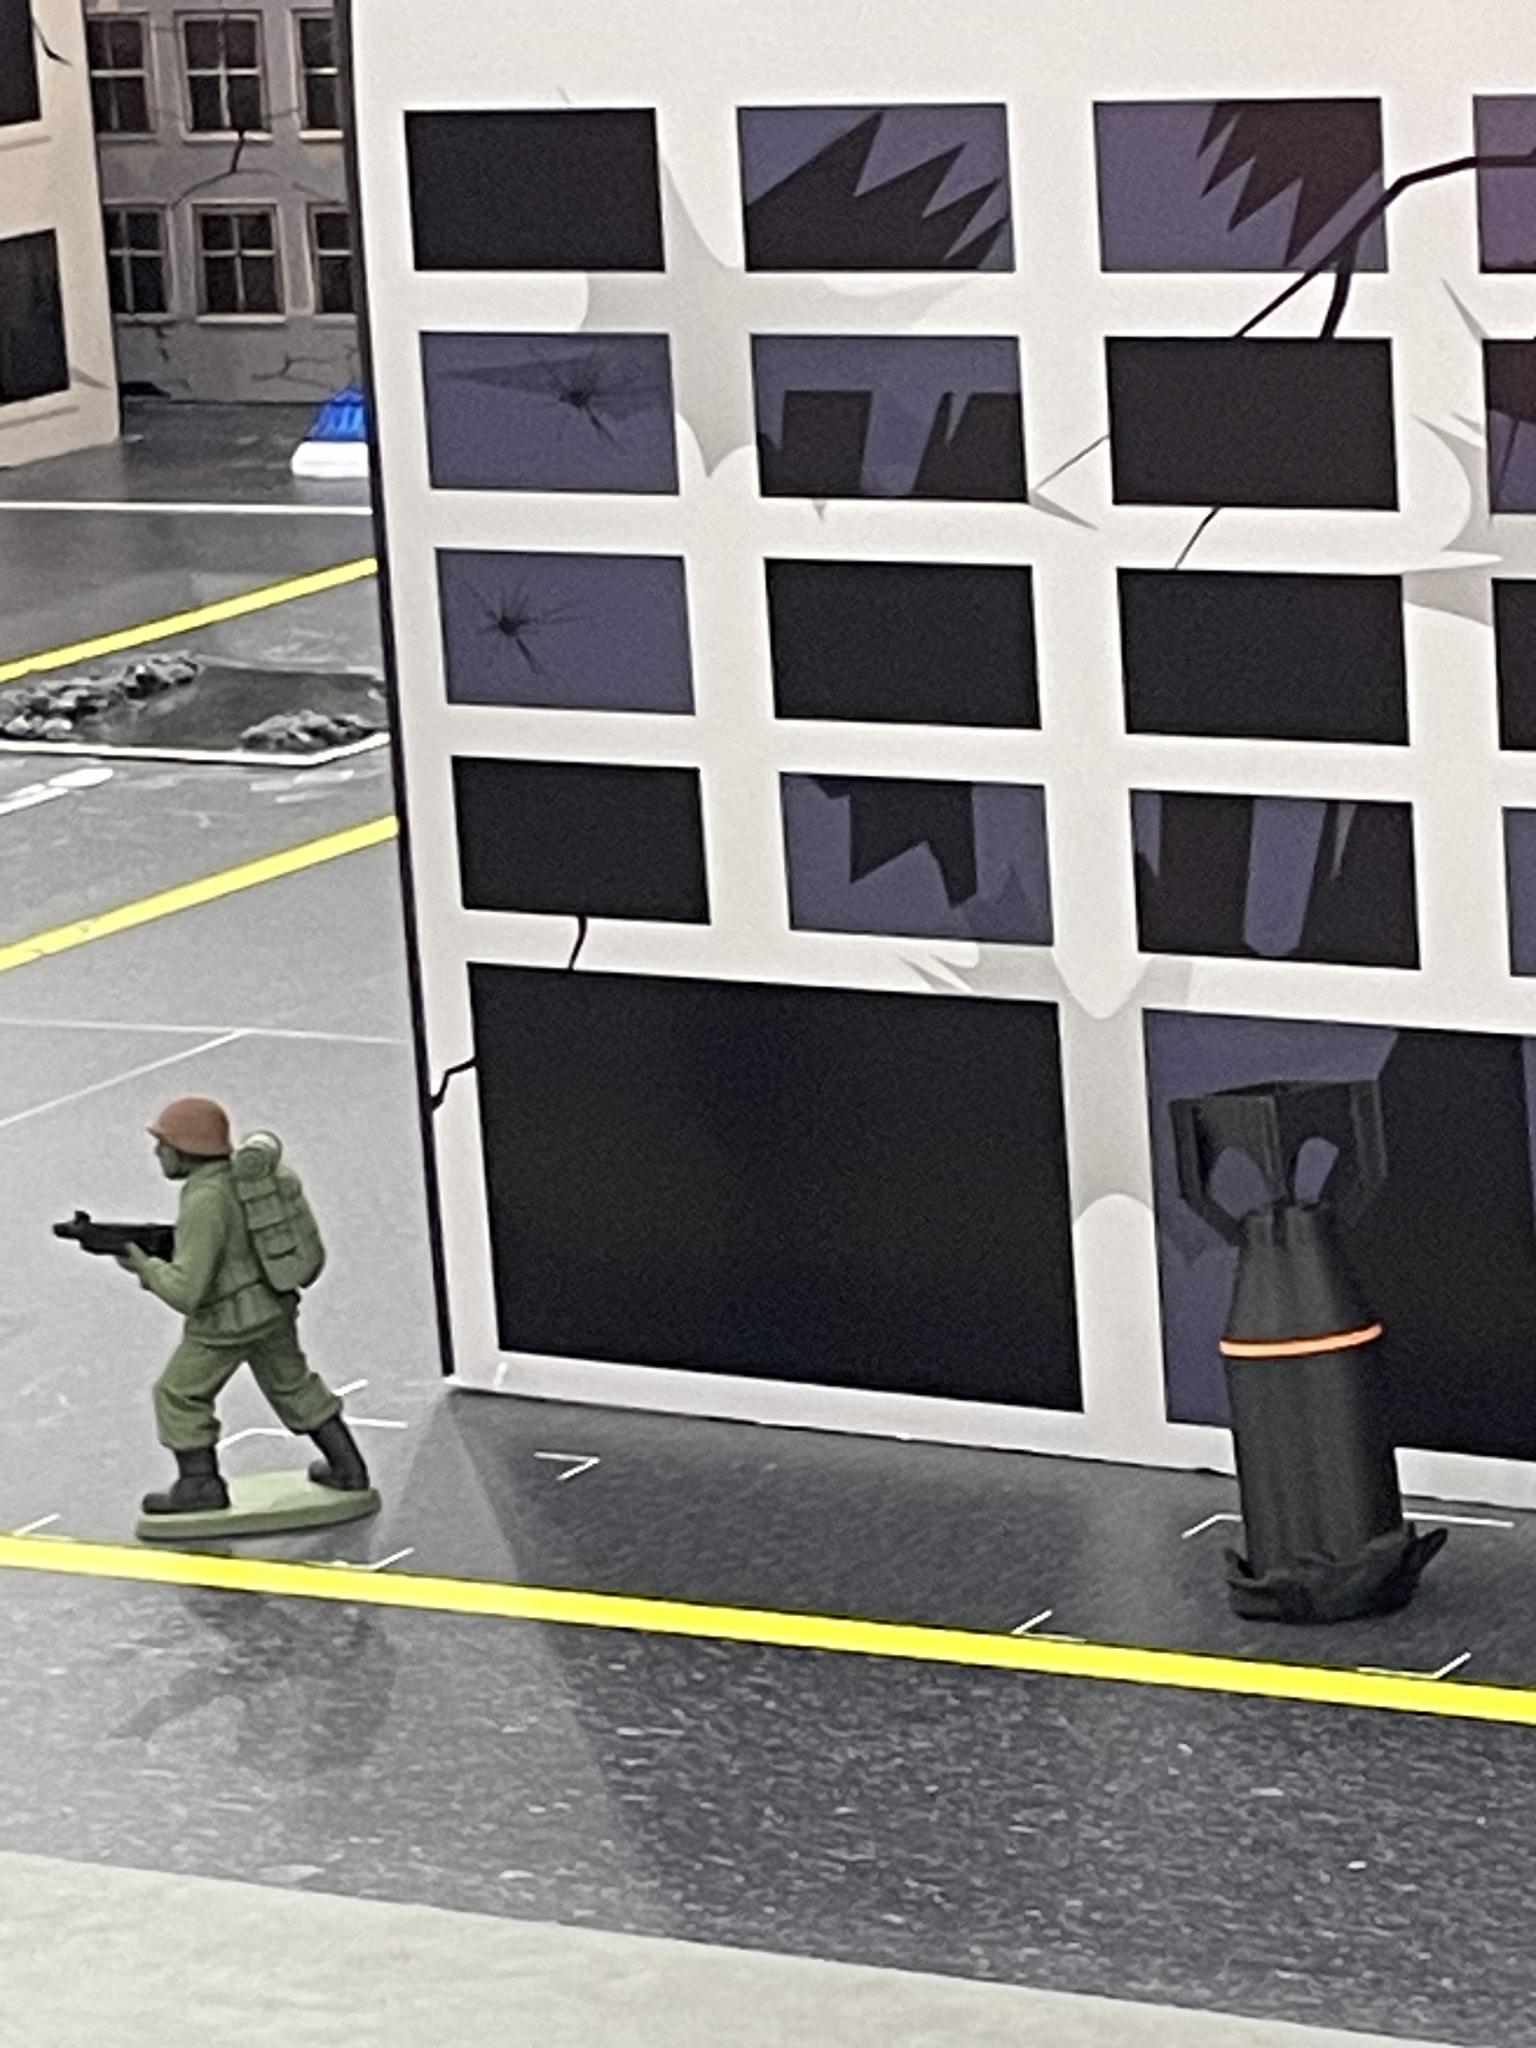Enemy: (56, 1084, 397, 1559)
Missile: (1155, 1066, 1460, 1629)
